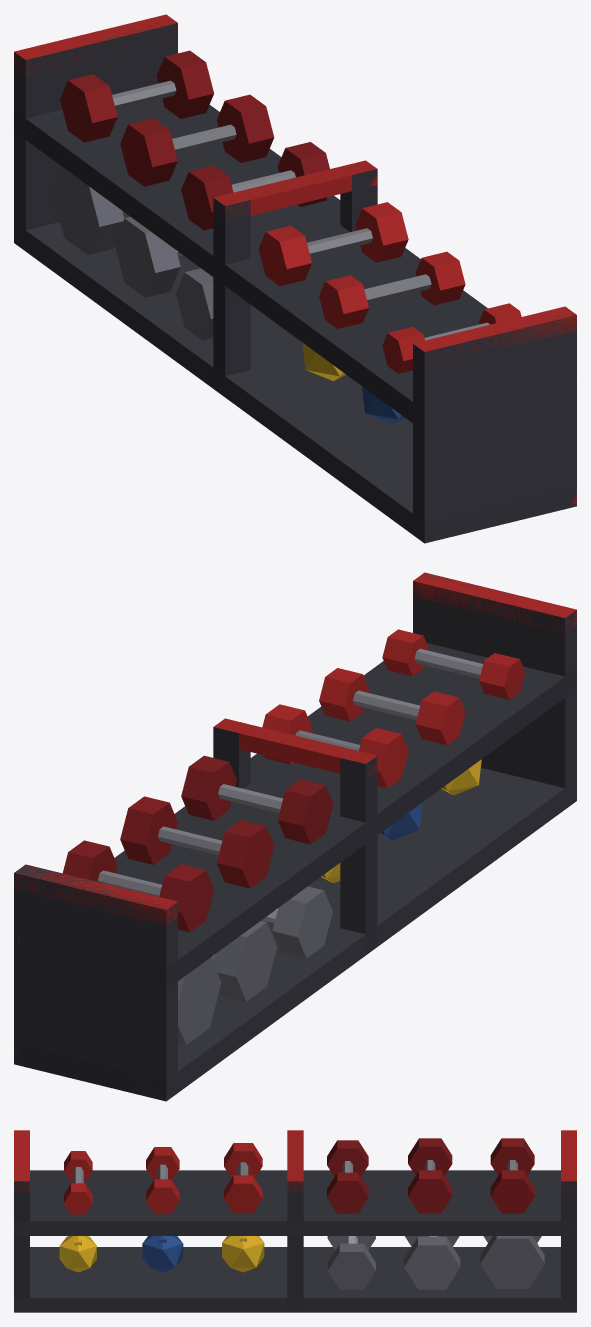
File: Decor_GymHall_Racks.fbx
3 renders of one model, top to bottom at view 1: azimuth 30°, elevation 25°; view 2: azimuth 150°, elevation 25°; view 3: azimuth 270°, elevation 25°, orthographic. The views are drawn at different scales.
Visible parts, largest first — view 1: Racks_Body; view 2: Racks_Body; view 3: Racks_Body.
Part boxes in pixels (left/top/right/bottom): Racks_Body: left=14, top=14, right=576, bottom=543; Racks_Body: left=14, top=572, right=576, bottom=1101; Racks_Body: left=14, top=1130, right=576, bottom=1312.
Bounding box in the file's own units: 3 × 3.6 × 14.
